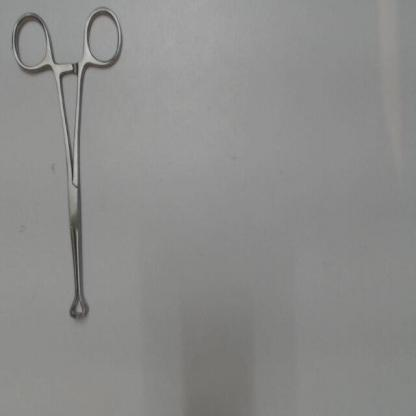Babcock Tissue Forceps: (9, 2, 126, 325)
